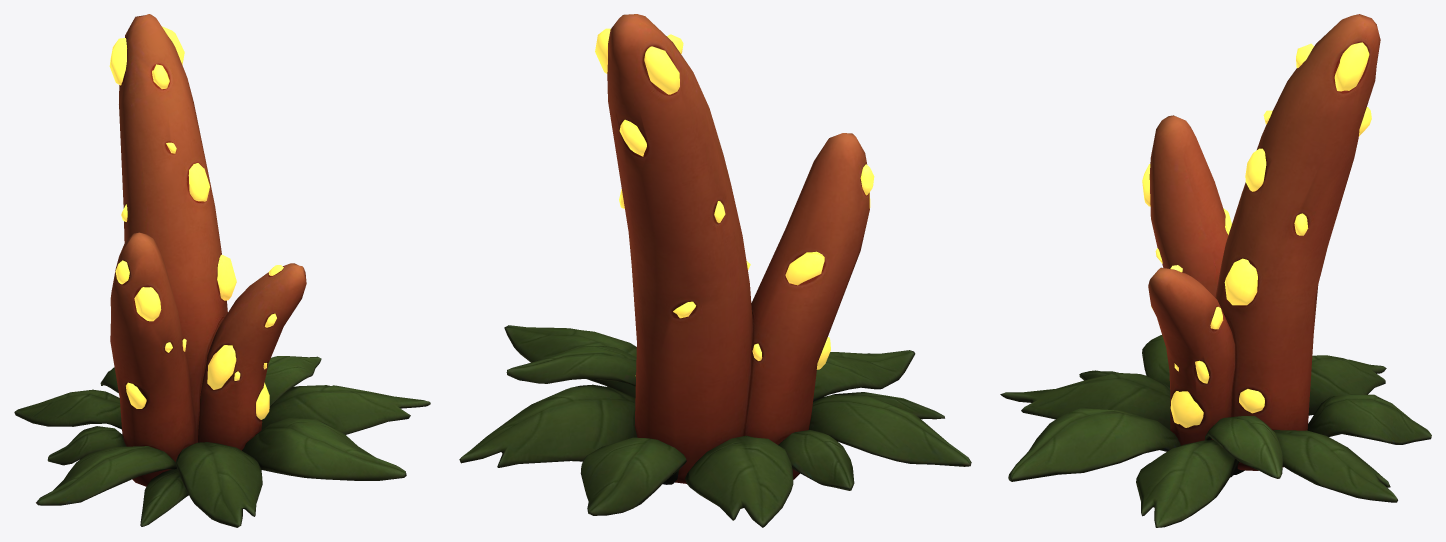
Rendered from bog_glowplant_b.glb.
3 views of the same model, side by side, from view 1: azimuth 30°, elevation 25°; view 2: azimuth 150°, elevation 25°; view 3: azimuth 270°, elevation 25° (orthographic). The views are drawn at different scales.
Parts seen in each view (by area): view 1: SM_XBOG_DRS_GlowPlant_01B; view 2: SM_XBOG_DRS_GlowPlant_01B; view 3: SM_XBOG_DRS_GlowPlant_01B.
Boxes of the visible parts, left/top/right/bottom form: SM_XBOG_DRS_GlowPlant_01B: left=14, top=14, right=430, bottom=527; SM_XBOG_DRS_GlowPlant_01B: left=459, top=14, right=971, bottom=527; SM_XBOG_DRS_GlowPlant_01B: left=1000, top=14, right=1431, bottom=527.
Bounding box in the file's own units: 2.28 × 2.33 × 1.99.
Materials: 1 (1 with a texture image).
